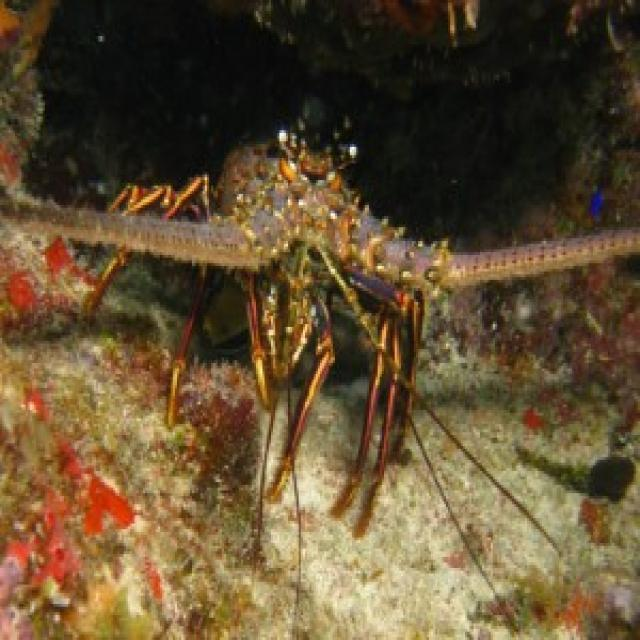lobsters: (23, 125, 593, 507)
